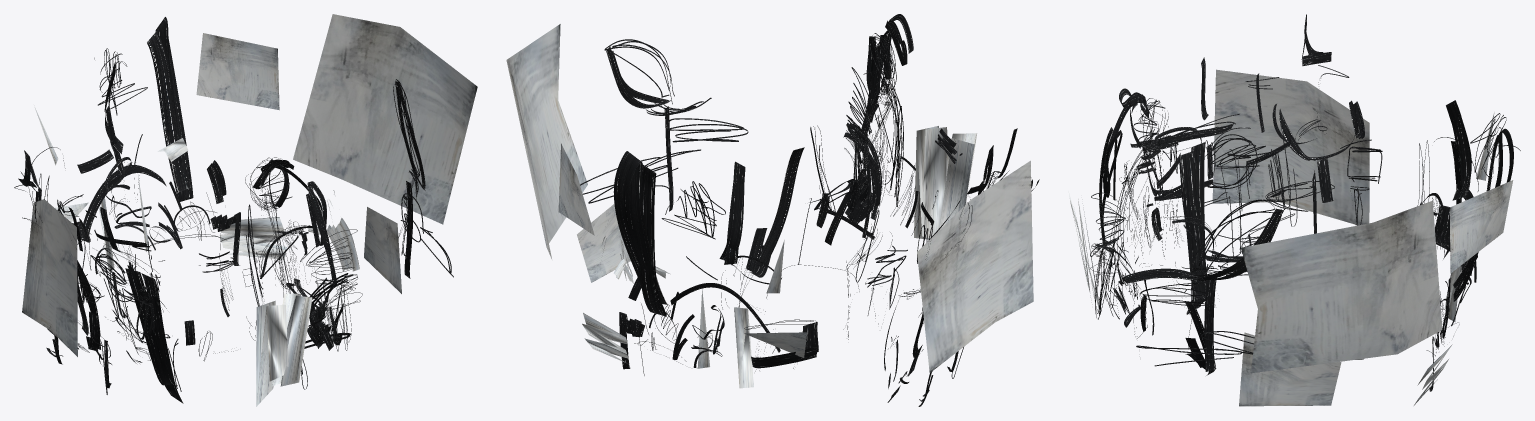
File: systemeundmenschen.glb
3 views of the same model, side by side, from view 1: azimuth 30°, elevation 25°; view 2: azimuth 150°, elevation 25°; view 3: azimuth 270°, elevation 25° (orthographic). The views are drawn at different scales.
Parts seen in each view (by area): view 1: white, black; view 2: white, black; view 3: white, black.
Boxes of the visible parts, x1,y1,x2,y2 form: white: [22, 14, 477, 406]; black: [14, 17, 453, 403]; white: [506, 24, 1033, 388]; black: [580, 14, 1039, 406]; white: [1068, 69, 1513, 406]; black: [1090, 14, 1520, 391].
Bounding box in the file's own units: 11.32 × 6.51 × 10.02.
Materials: 2 (2 with a texture image).
